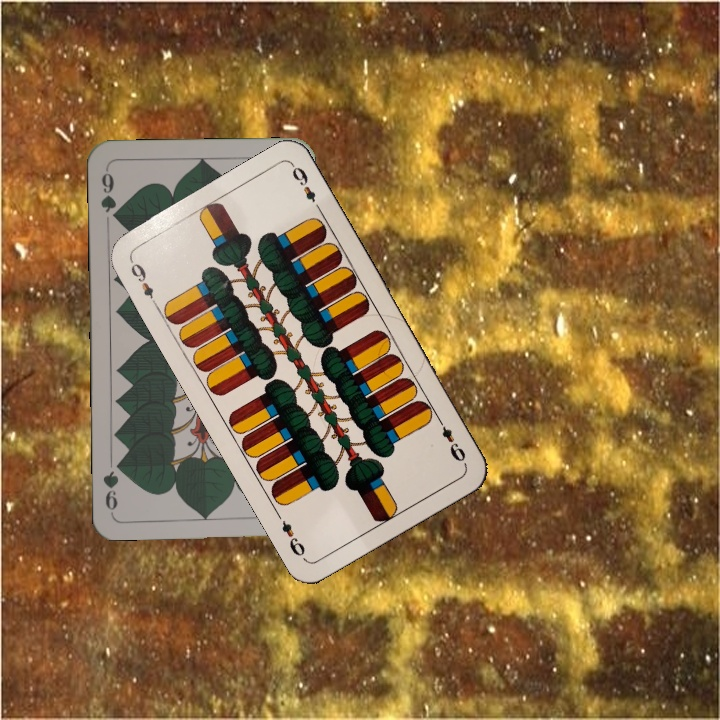E9: (433, 413, 469, 467), (126, 256, 161, 310)
G9: (96, 165, 122, 224)
